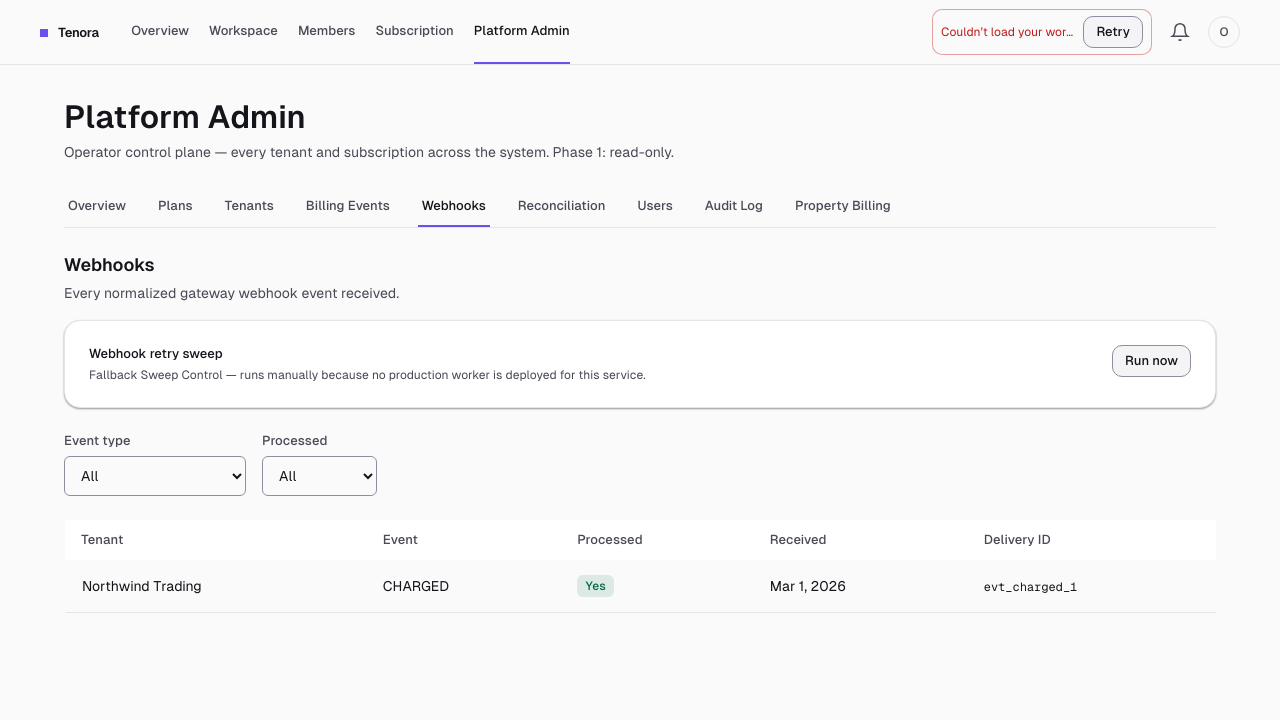
Test: WebhooksPage — fallback sweep control (Phase 2) › makes no request until the confirm modal is accepted
Expected: the text "Fallback Sweep Control" is shown, [89,368,646,382]
Click the button "Run now": {"x": 1152, "y": 361} [1112,345,1191,377]
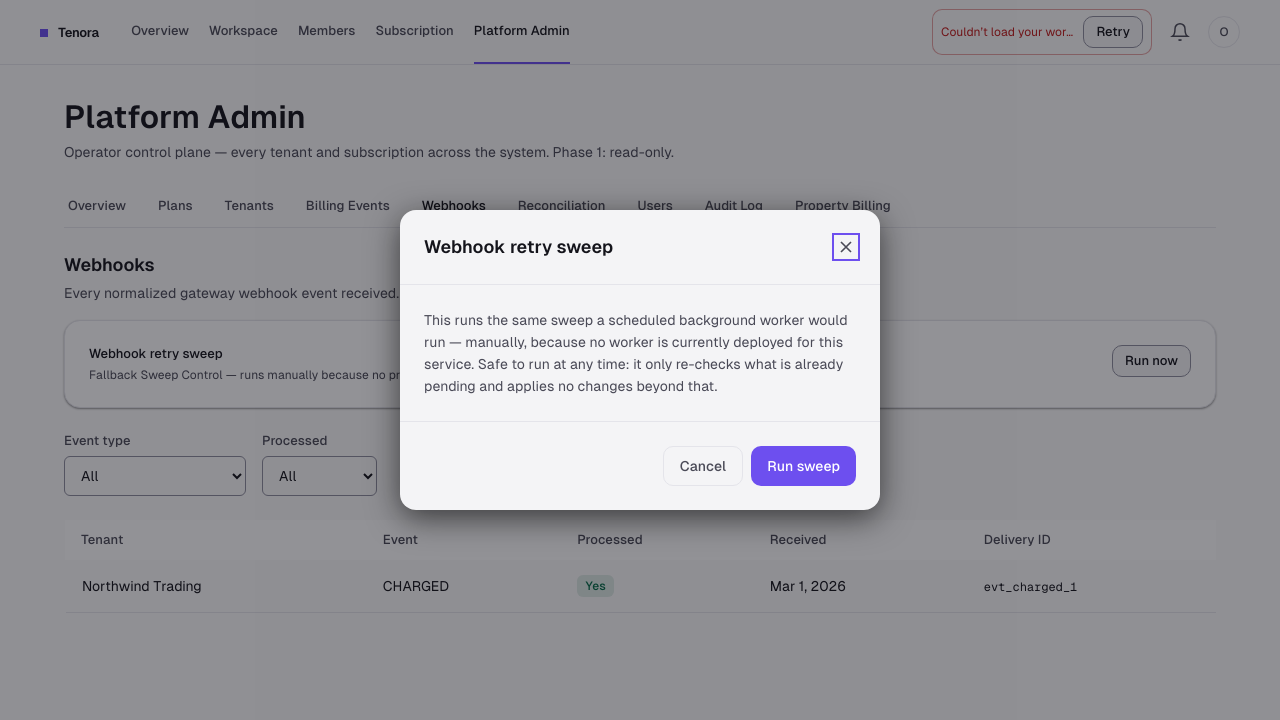
Result: the dialog "Webhook retry sweep" is shown at [400,210,880,510]
